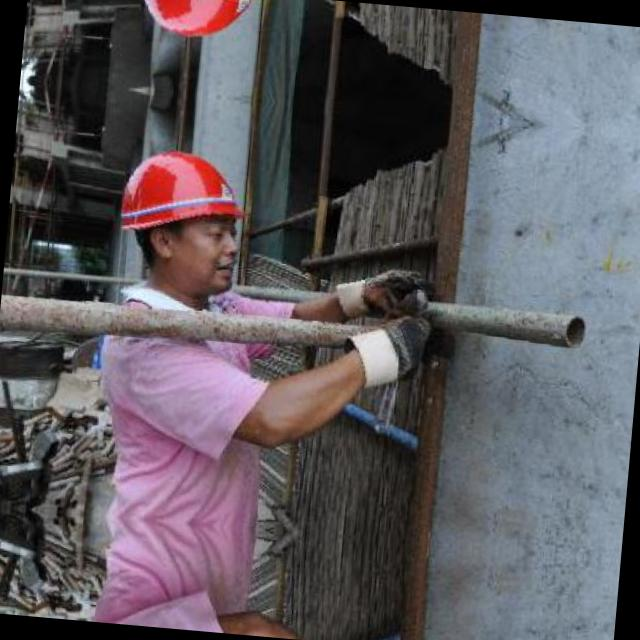helmet: (103, 135, 261, 313), (125, 0, 276, 54)
